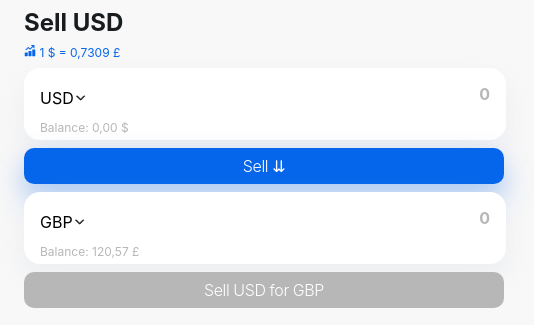
Test case: App › it change mode
This screenshot has width=534, height=325.
Click the button "Sell ⇊": (264, 166) [24,148,504,184]
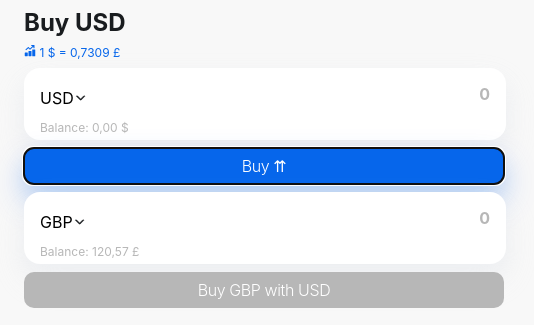
Result: the heading "Buy USD" is shown at [24,8,126,37]
Result: the button "Buy GBP with USD" is shown at [24,272,504,308]
Click the button "Buy ⇈": (264, 166) [24,148,504,184]
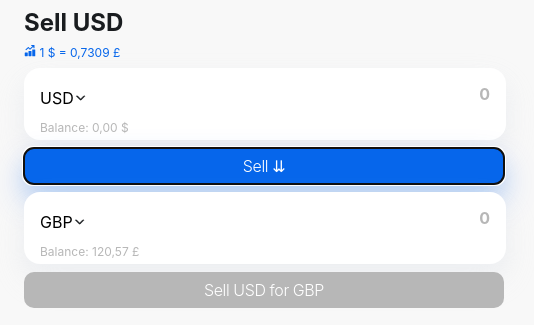
Result: the heading "Sell USD" is shown at [24,8,123,37]
Result: the button "Sell USD for GBP" is shown at [24,272,504,308]
Result: the button "Sell ⇊" is shown at [24,148,504,184]
